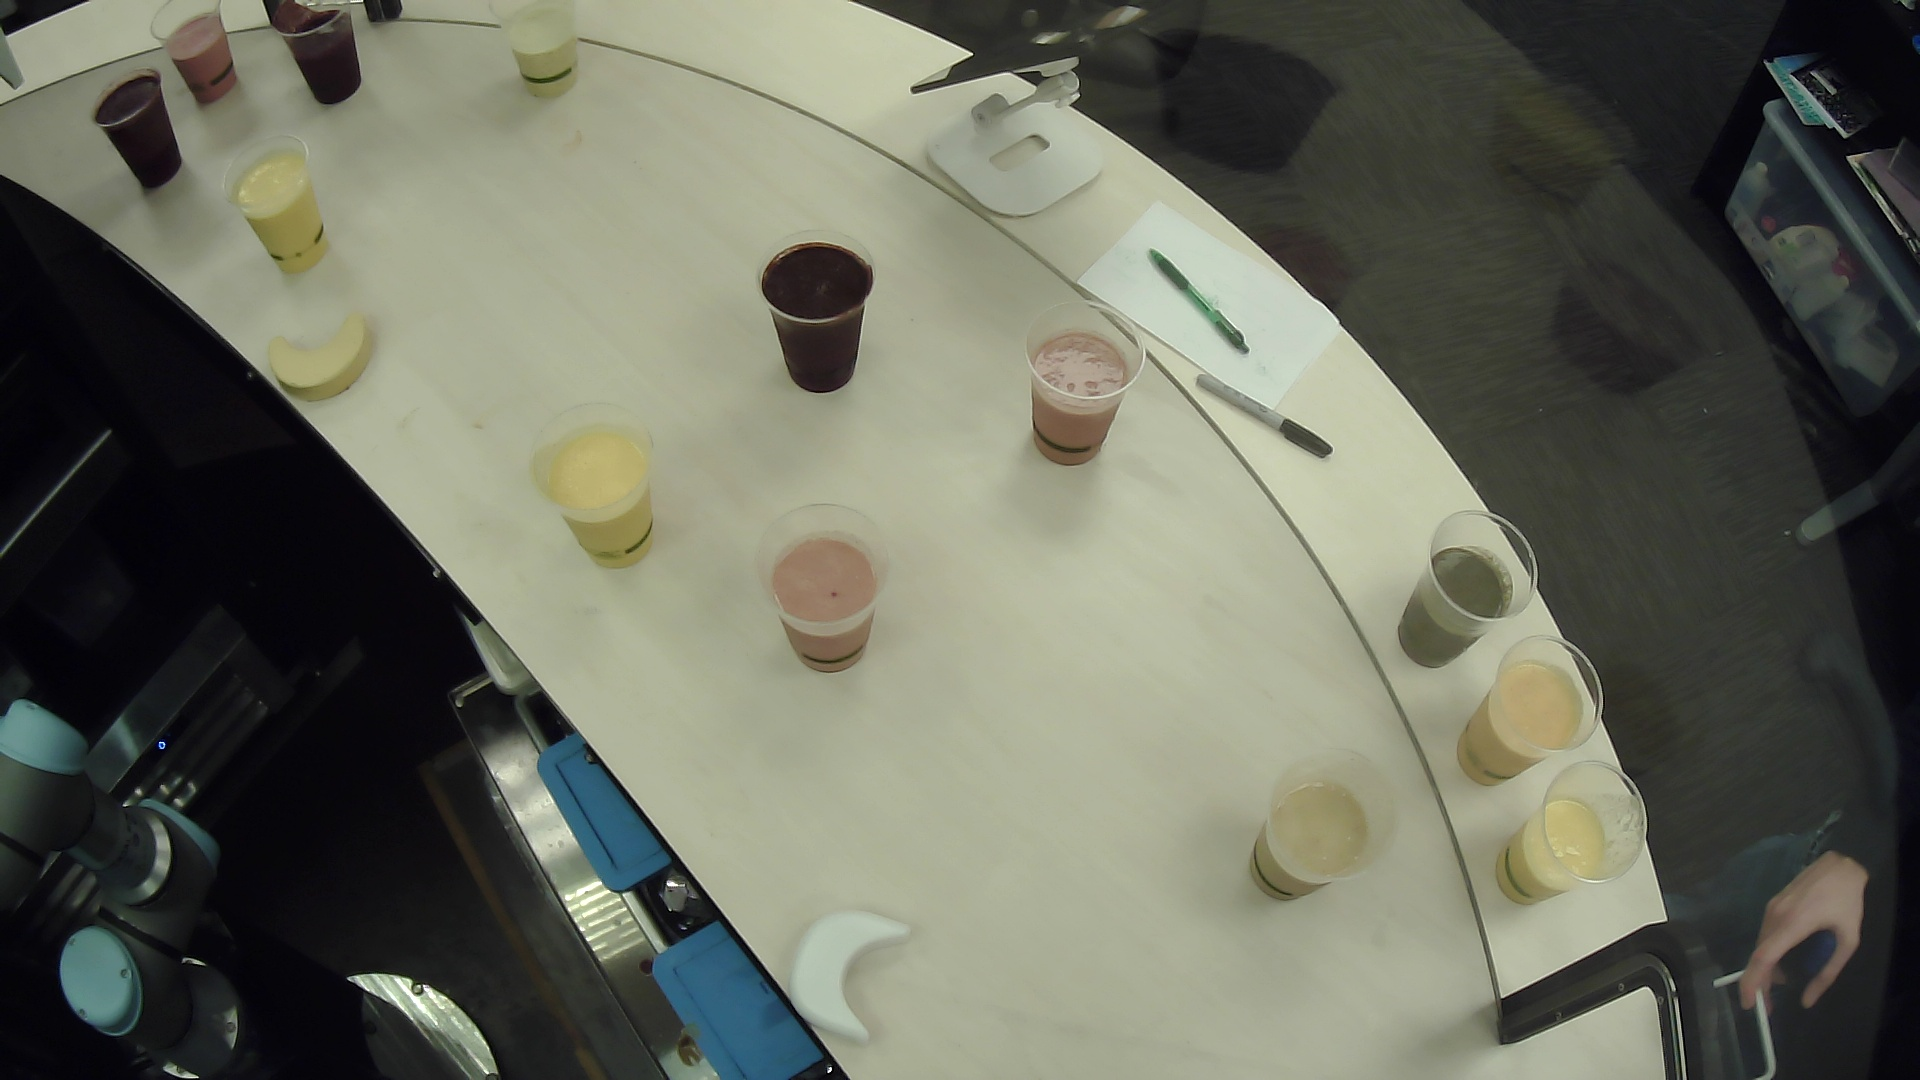Deliver: (785, 880, 939, 1048), (237, 295, 410, 423)
Full_cup: (1236, 717, 1423, 938), (732, 493, 927, 702), (1453, 752, 1681, 924), (1407, 632, 1633, 783), (1013, 265, 1159, 495), (1389, 469, 1543, 667), (738, 225, 891, 418), (527, 401, 679, 587), (208, 133, 355, 282), (80, 67, 203, 207), (257, 1, 398, 123), (131, 1, 258, 119), (487, 1, 603, 123)
